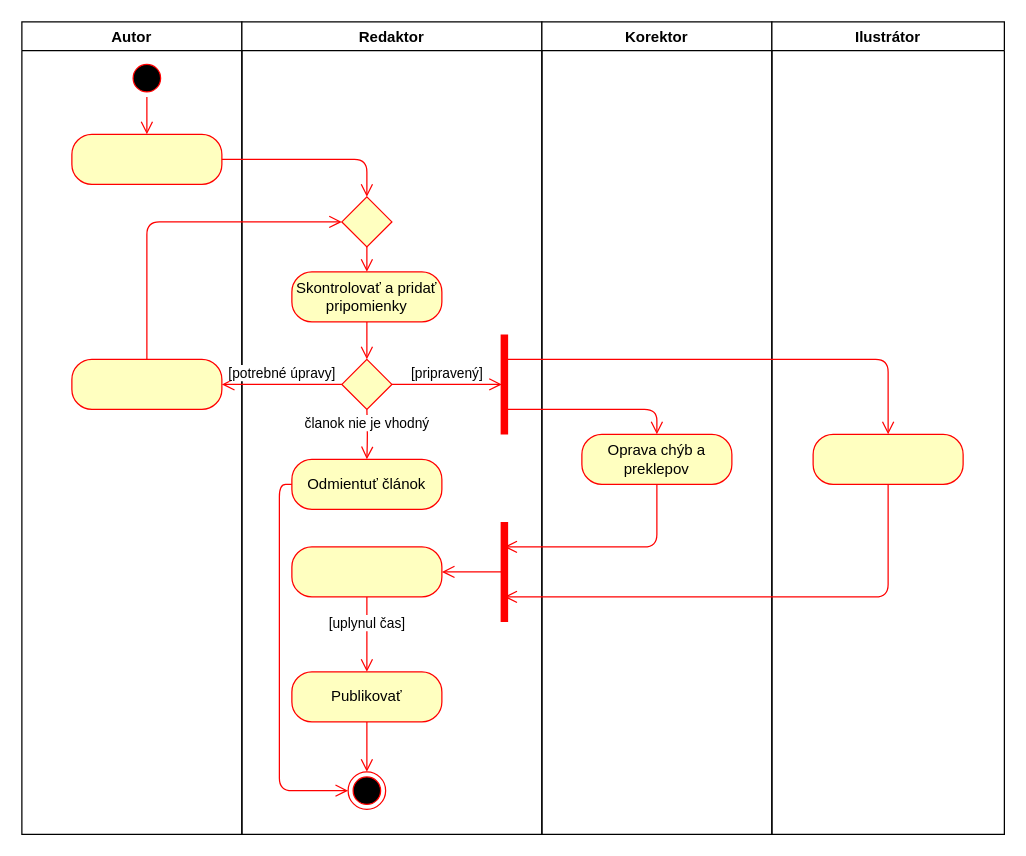
This 1026x856 diagram has some shape labels left out. The centre of each missing label's shape, as x and y in pixels:
Naplánovať: the point at 366,571
Napísať článok: the point at 146,158
Upraviť na základe pripomienok: the point at 146,383
Vytvorenie ilustrácií: the point at 887,458
